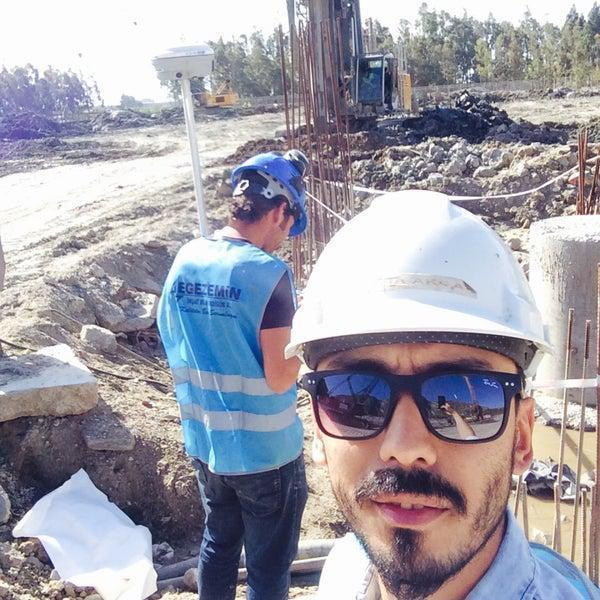helmet: (284, 190, 558, 374), (232, 152, 309, 235)
